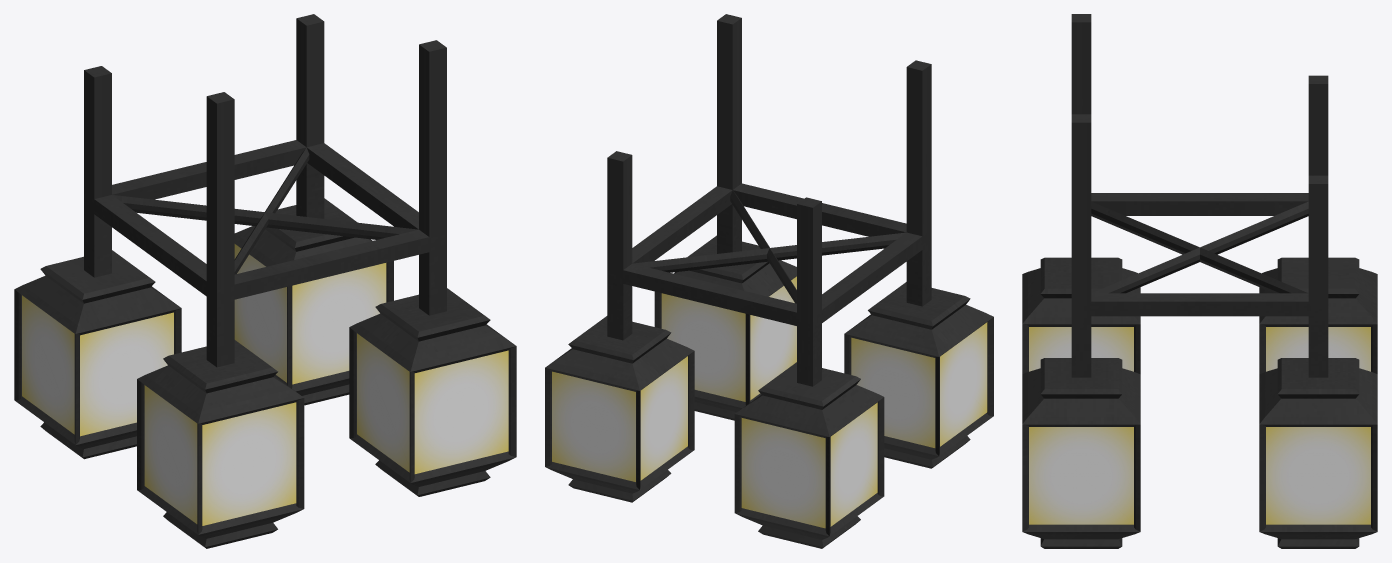
File: MainLight.fbx
The picture shows the model from 3 angles, left to right: view 1: azimuth 30°, elevation 25°; view 2: azimuth 150°, elevation 25°; view 3: azimuth 270°, elevation 25°; orthographic projection. The views are drawn at different scales.
Visible parts, largest first — view 1: Cube; view 2: Cube; view 3: Cube.
Part boxes in pixels (x1,y1,x2,y2): Cube: [14, 14, 516, 548]; Cube: [545, 14, 993, 548]; Cube: [1022, 14, 1377, 548].
Size of the model in its own units: 660 by 850 by 660.
